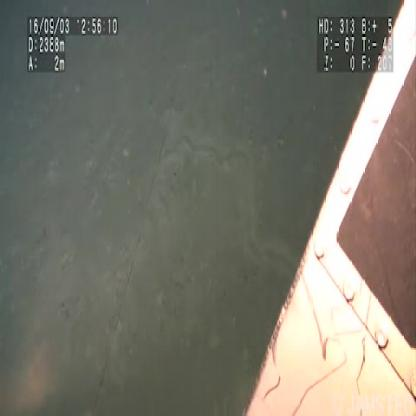Rov: (241, 1, 415, 414)
